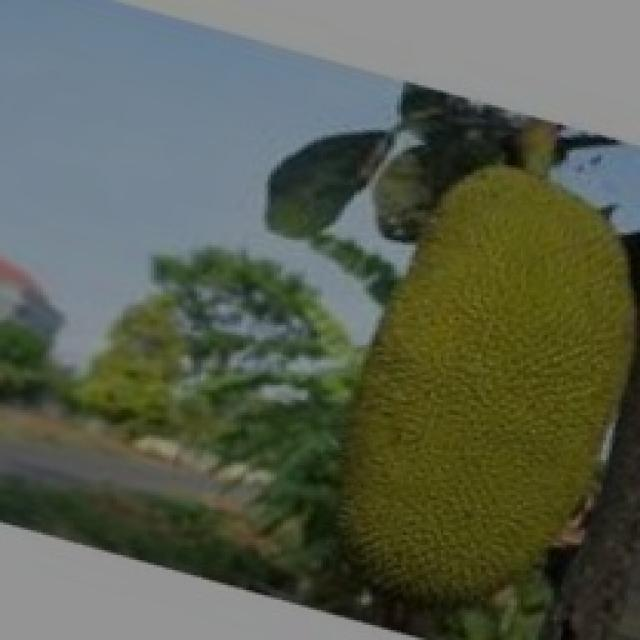Fruit: (283, 215, 640, 637)
